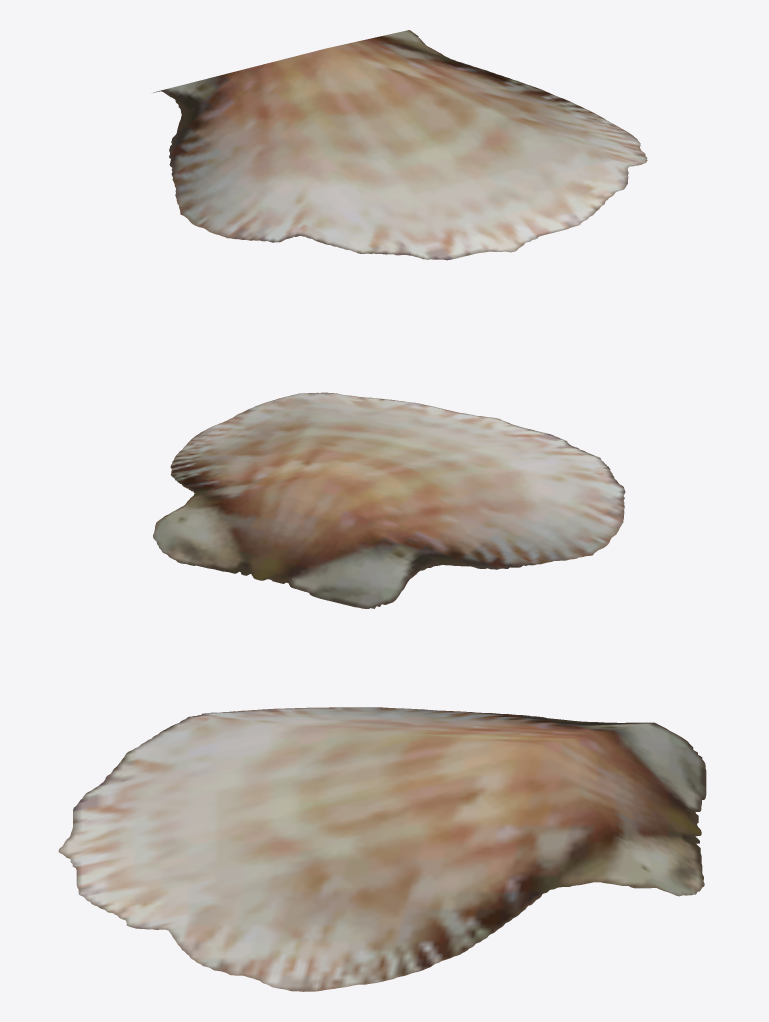
The model's file is shor_seashell_scallop_sh_a2_l1.fbx.
The picture shows the model from 3 angles, top to bottom: view 1: azimuth 30°, elevation 25°; view 2: azimuth 150°, elevation 25°; view 3: azimuth 270°, elevation 25°; orthographic projection. The views are drawn at different scales.
Parts seen in each view (by area): view 1: mesh_node; view 2: mesh_node; view 3: mesh_node.
Part boxes in pixels (left/top/right/bottom): mesh_node: left=153, top=30, right=647, bottom=260; mesh_node: left=153, top=392, right=625, bottom=608; mesh_node: left=58, top=707, right=706, bottom=991.
Bounding box in the file's own units: 0.1005 × 0.0168 × 0.103.
Materials: 1 (1 with a texture image).
